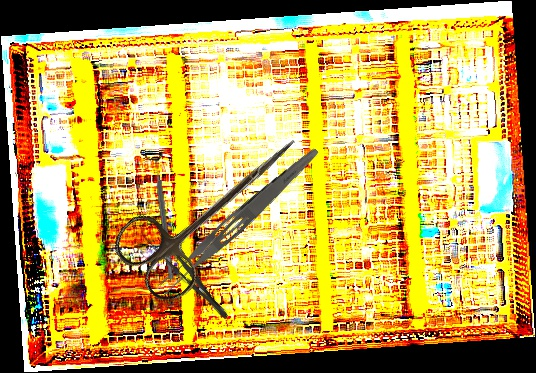Dressing Forceps: (153, 139, 323, 300), (140, 225, 235, 324)
Fixation Ring: (143, 151, 182, 281)
Iris Scissors: (105, 103, 323, 311)
